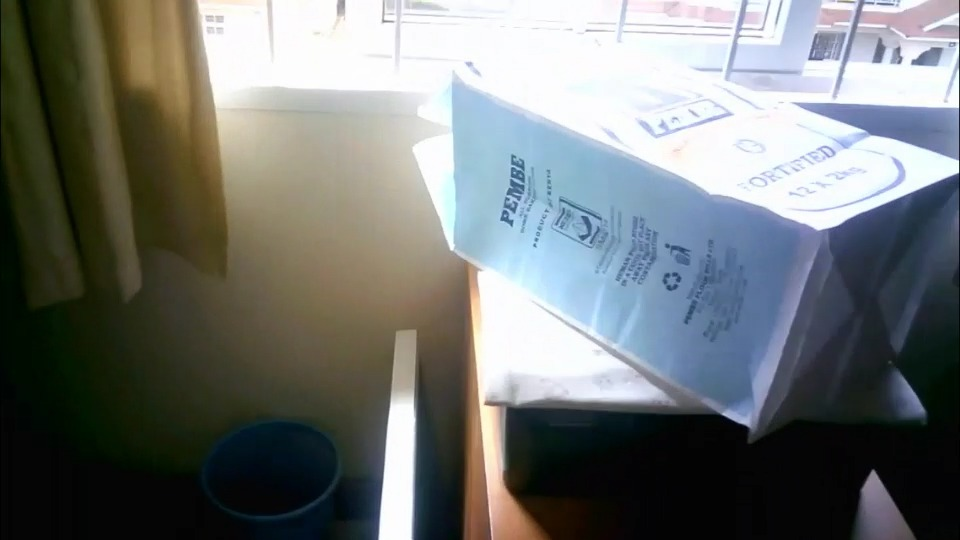wheat_flour_blue_label: (450, 52, 953, 441)
